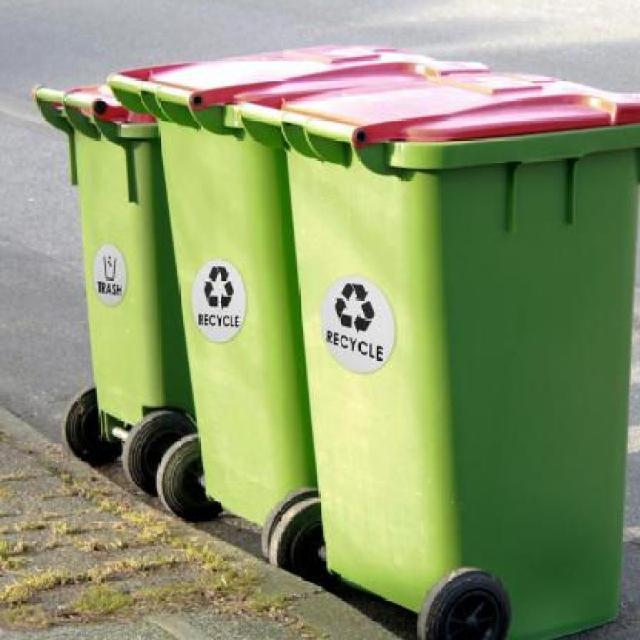garbage container: (245, 67, 640, 640), (93, 42, 327, 599), (26, 69, 197, 522)
